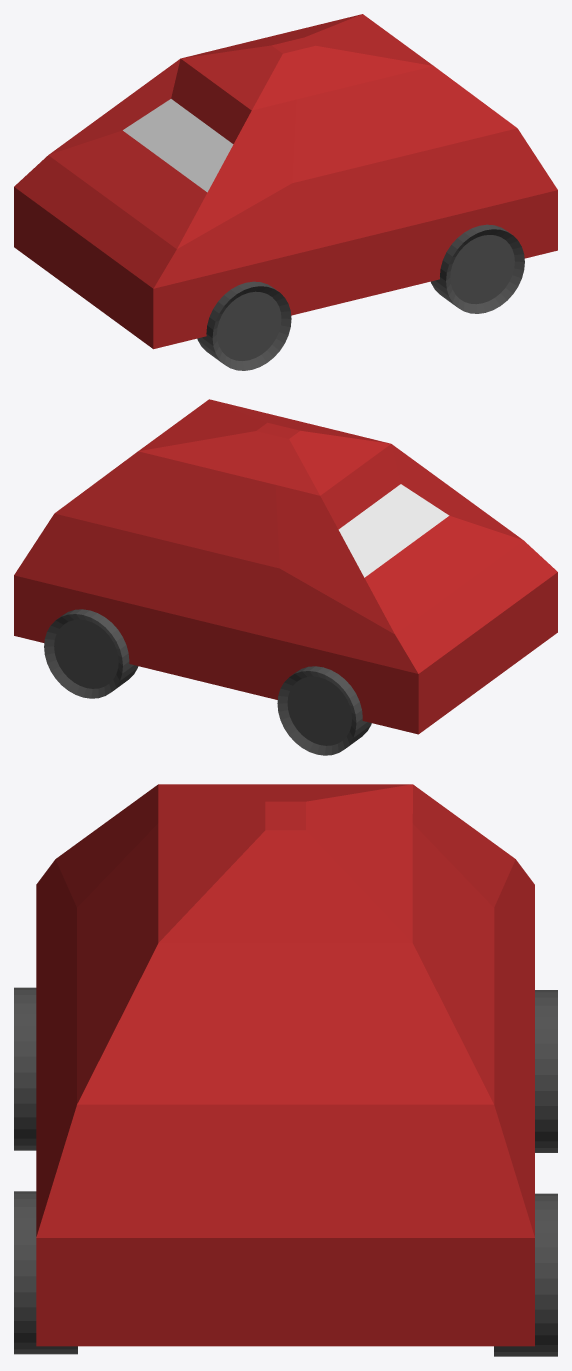
Rendered from car.glb.
3 renders of one model, top to bottom at view 1: azimuth 30°, elevation 25°; view 2: azimuth 150°, elevation 25°; view 3: azimuth 270°, elevation 25°, orthographic. The views are drawn at different scales.
Parts seen in each view (by area): view 1: Cube, Cylinder.002, Cylinder.003, Cube.001; view 2: Cube, Cylinder.001, Cylinder.004, Cube.001; view 3: Cube, Cylinder.001, Cylinder.003, Cylinder.002, Cylinder.004.
Part boxes in pixels (x1=…): Cube: x1=14, y1=14, x2=557, y2=349; Cylinder.002: x1=197, y1=281, x2=291, y2=370; Cylinder.003: x1=431, y1=224, x2=524, y2=313; Cube.001: x1=123, y1=99, x2=233, y2=192; Cube: x1=14, y1=399, x2=557, y2=734; Cylinder.001: x1=44, y1=609, x2=138, y2=698; Cylinder.004: x1=277, y1=666, x2=371, y2=755; Cube.001: x1=338, y1=484, x2=449, y2=577; Cube: x1=36, y1=784, x2=534, y2=1346; Cylinder.001: x1=494, y1=1193, x2=557, y2=1356; Cylinder.003: x1=14, y1=1191, x2=77, y2=1354; Cylinder.002: x1=14, y1=987, x2=36, y2=1150; Cylinder.004: x1=535, y1=990, x2=557, y2=1152.
Size of the model in its own units: 2 by 1.13 by 1.3.
